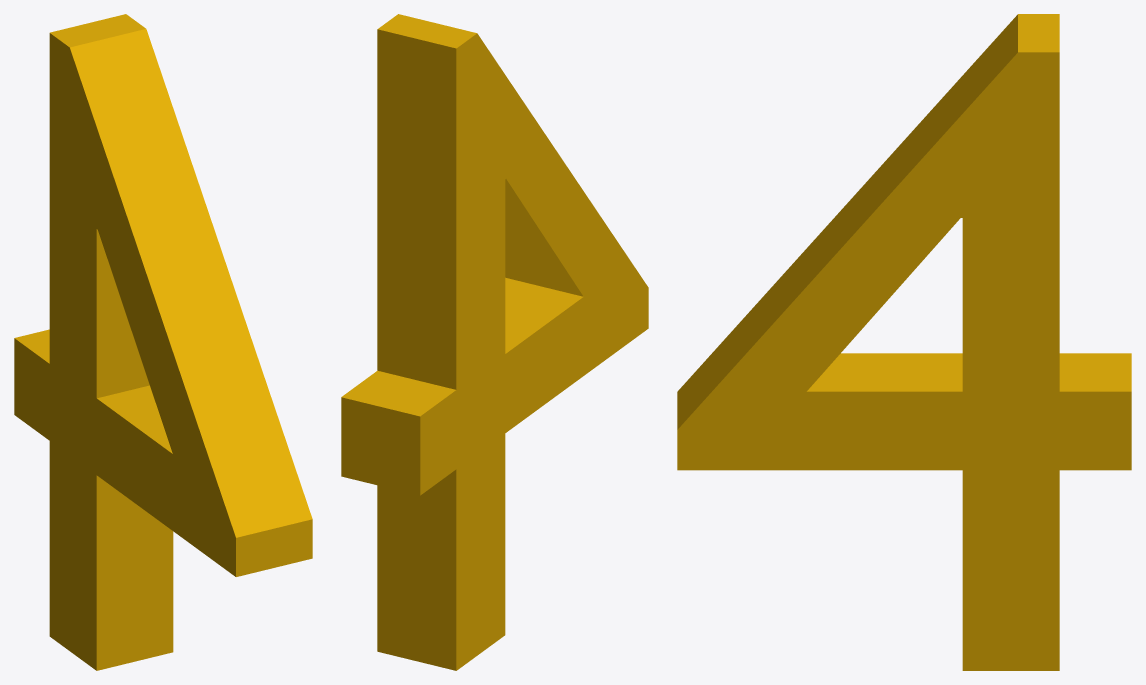
File: number(4).fbx
The picture shows the model from 3 angles, left to right: view 1: azimuth 30°, elevation 25°; view 2: azimuth 150°, elevation 25°; view 3: azimuth 270°, elevation 25°; orthographic projection. The views are drawn at different scales.
Visible parts, largest first — view 1: Text; view 2: Text; view 3: Text.
Part boxes in pixels (x1,y1,x2,y2): Text: [14, 14, 312, 670]; Text: [341, 14, 648, 670]; Text: [677, 14, 1131, 670].
Size of the model in its own units: 9.18 by 69.1 by 46.
